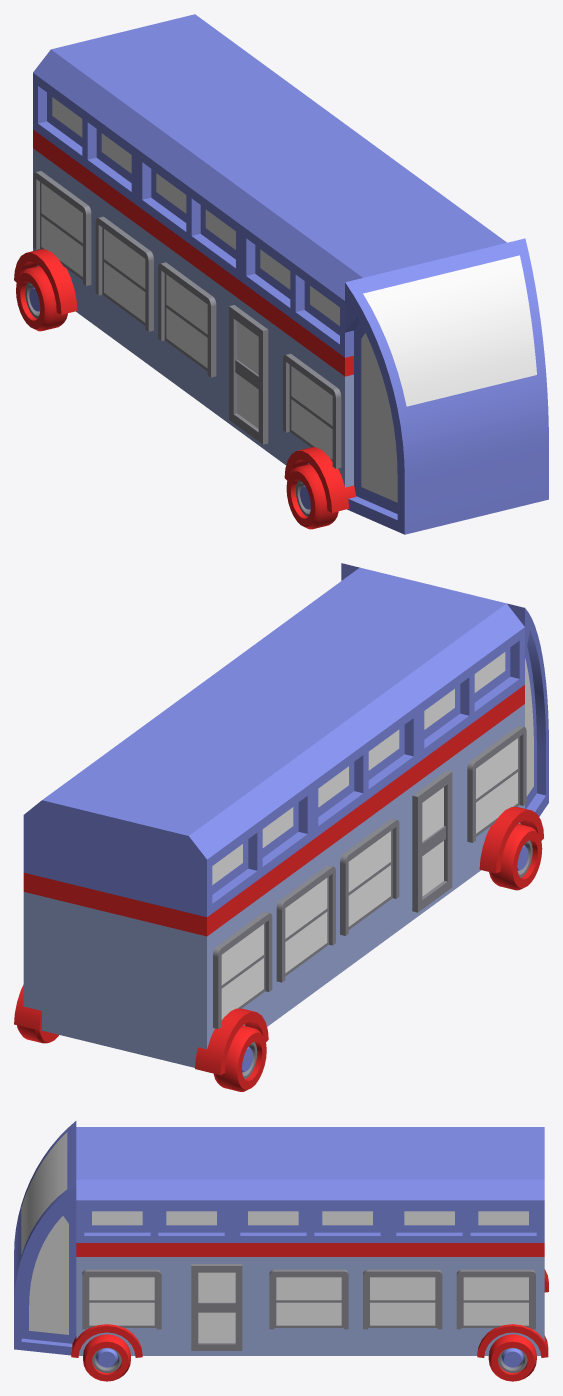
File: bus.fbx
The picture shows the model from 3 angles, top to bottom: view 1: azimuth 30°, elevation 25°; view 2: azimuth 150°, elevation 25°; view 3: azimuth 270°, elevation 25°; orthographic projection. The views are drawn at different scales.
Parts seen in each view (by area): view 1: mergedBlocks; view 2: mergedBlocks; view 3: mergedBlocks.
Boxes of the visible parts, left/top/right/bottom form: mergedBlocks: left=14, top=14, right=548, bottom=534; mergedBlocks: left=14, top=563, right=548, bottom=1091; mergedBlocks: left=14, top=1121, right=548, bottom=1381.
Size of the model in its own units: 12.1 by 13.54 by 34.28.
